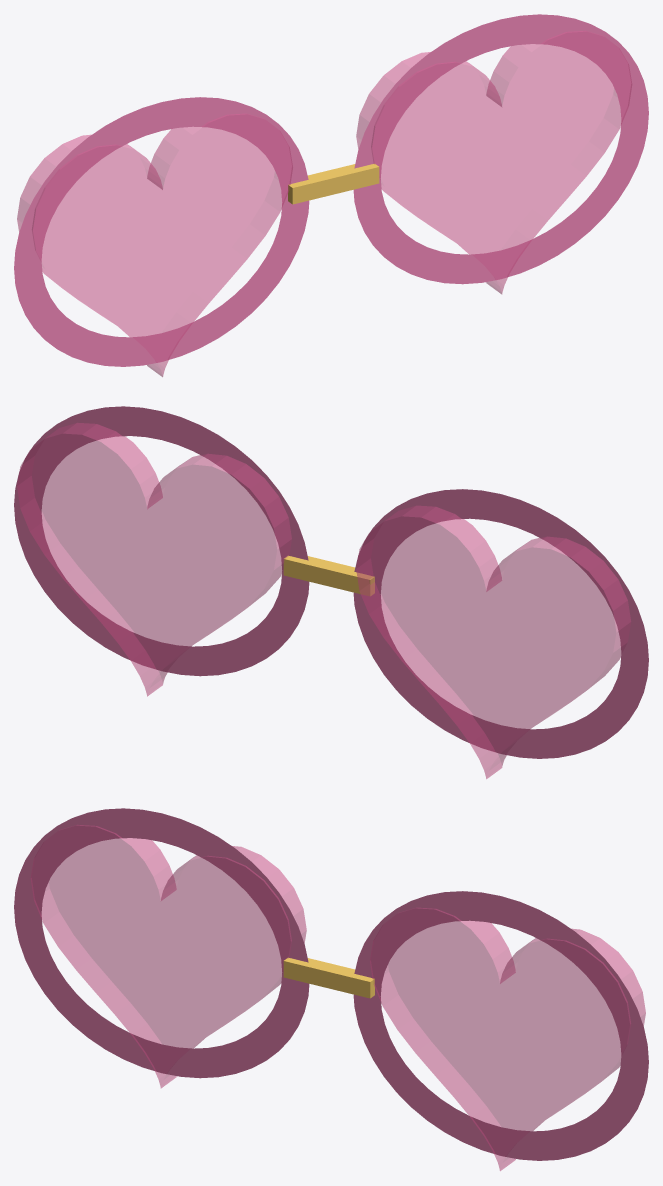
File: heart-glasses.glb
The picture shows the model from 3 angles, top to bottom: view 1: azimuth 30°, elevation 25°; view 2: azimuth 150°, elevation 25°; view 3: azimuth 330°, elevation 25°; orthographic projection.
Visible parts, largest first — view 1: heart lens (×2), rose frame (×2), bridge; view 2: heart lens (×2), rose frame (×2), bridge; view 3: heart lens (×2), rose frame (×2), bridge.
Part boxes in pixels (x1=…): heart lens (×2): x1=17, y1=31, x2=632, y2=376; rose frame (×2): x1=14, y1=14, x2=648, y2=366; bridge: x1=288, y1=163, x2=379, y2=204; heart lens (×2): x1=17, y1=423, x2=630, y2=778; rose frame (×2): x1=14, y1=406, x2=648, y2=758; bridge: x1=283, y1=555, x2=374, y2=596; heart lens (×2): x1=30, y1=825, x2=645, y2=1170; rose frame (×2): x1=14, y1=808, x2=648, y2=1160; bridge: x1=283, y1=957, x2=374, y2=998.
Bounding box in the file's own units: 1.61 × 0.6656 × 0.085.
